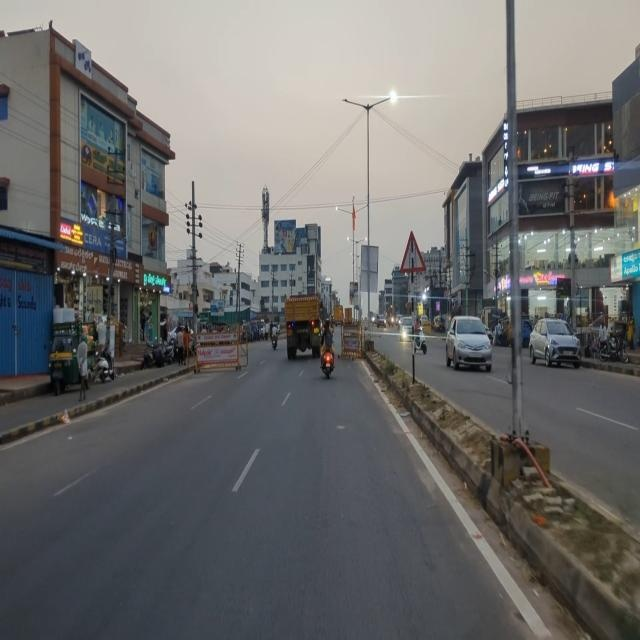bien_nguy_hiem: (397, 228, 429, 279)
